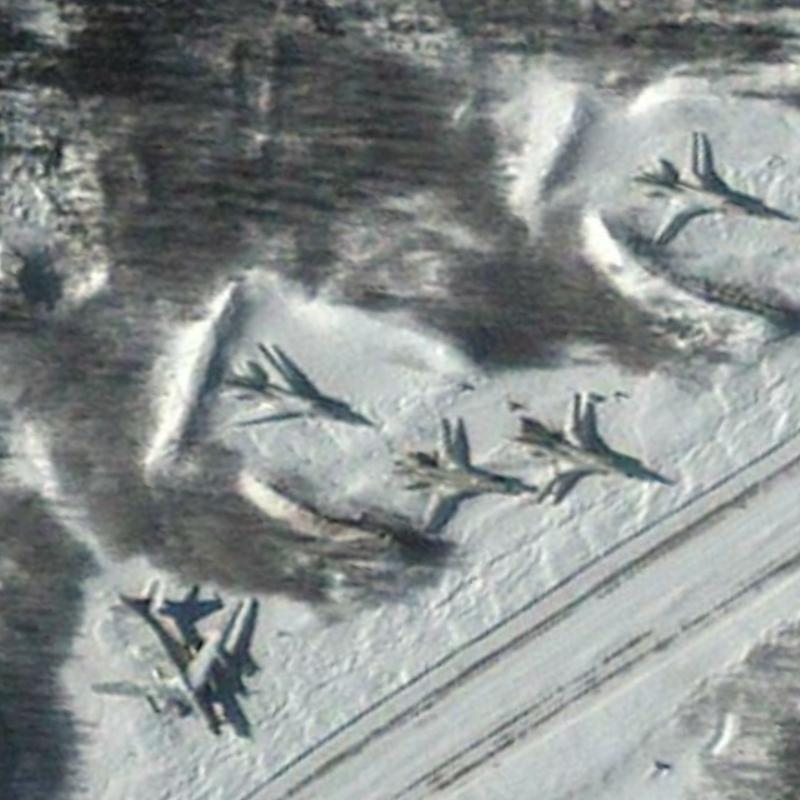A12: (626, 125, 789, 249), (386, 413, 538, 534), (501, 389, 655, 507), (214, 337, 378, 433)
A17: (86, 577, 245, 741)
